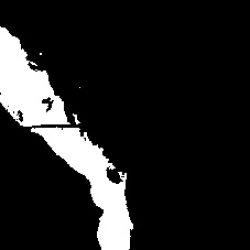crack: (2, 27, 135, 246)
